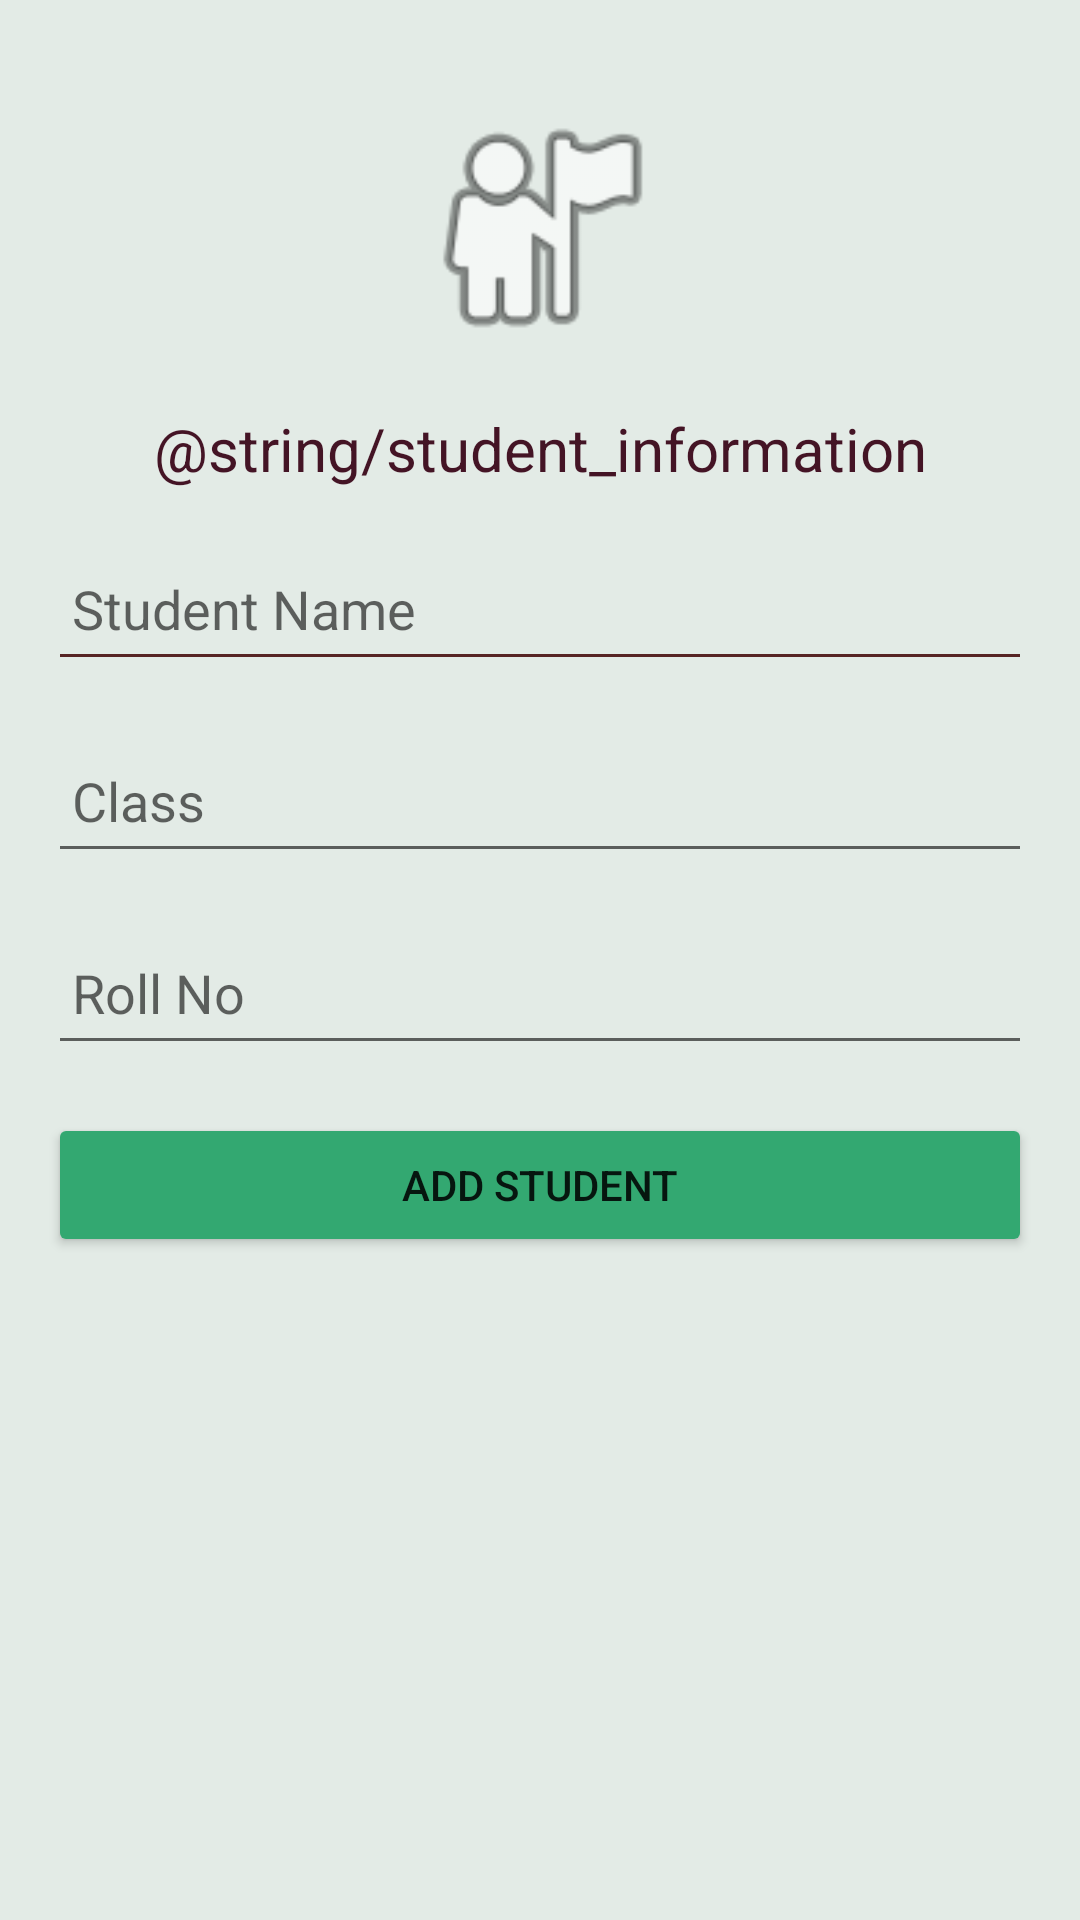

Icon click points for this 1080 x 1920 phone screenshot, format [x,y]:
myplaces: [542,228]
